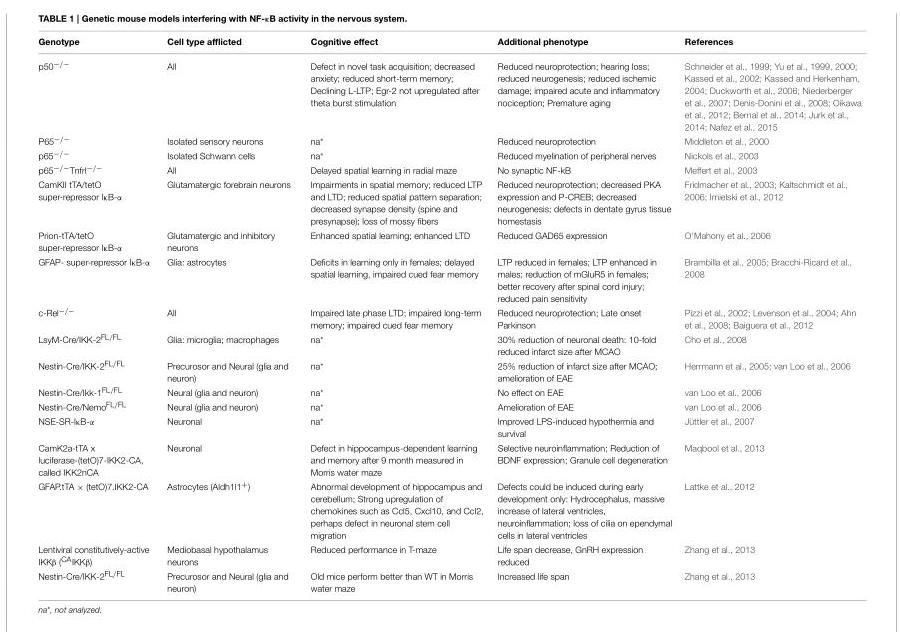table: (38, 37, 861, 592)
table column: (300, 37, 490, 592), (490, 37, 678, 592), (678, 37, 861, 592), (158, 37, 300, 592), (38, 37, 158, 592)
table column header: (38, 37, 861, 53)
table row: (38, 53, 861, 133), (38, 479, 861, 542), (38, 177, 861, 228), (38, 254, 861, 304), (38, 440, 861, 479), (38, 304, 861, 331), (38, 357, 861, 384), (38, 228, 861, 254), (38, 331, 861, 357), (38, 414, 861, 440), (38, 542, 861, 567), (38, 567, 861, 592), (38, 37, 861, 53), (38, 398, 861, 414), (38, 147, 861, 162), (38, 162, 861, 177), (38, 133, 861, 147), (38, 384, 861, 398)
